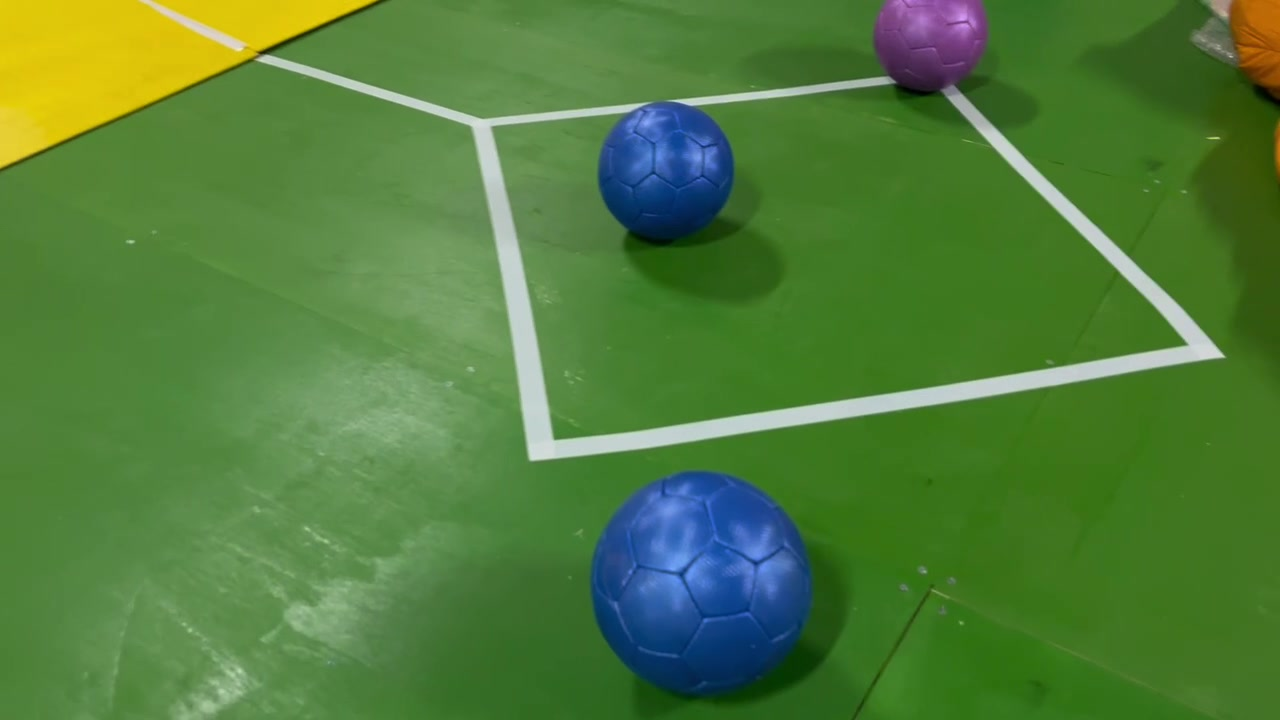blue: (576, 475, 819, 698), (599, 99, 739, 241)
